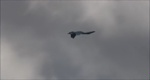maybay_muctieu: (68, 30, 95, 39)
